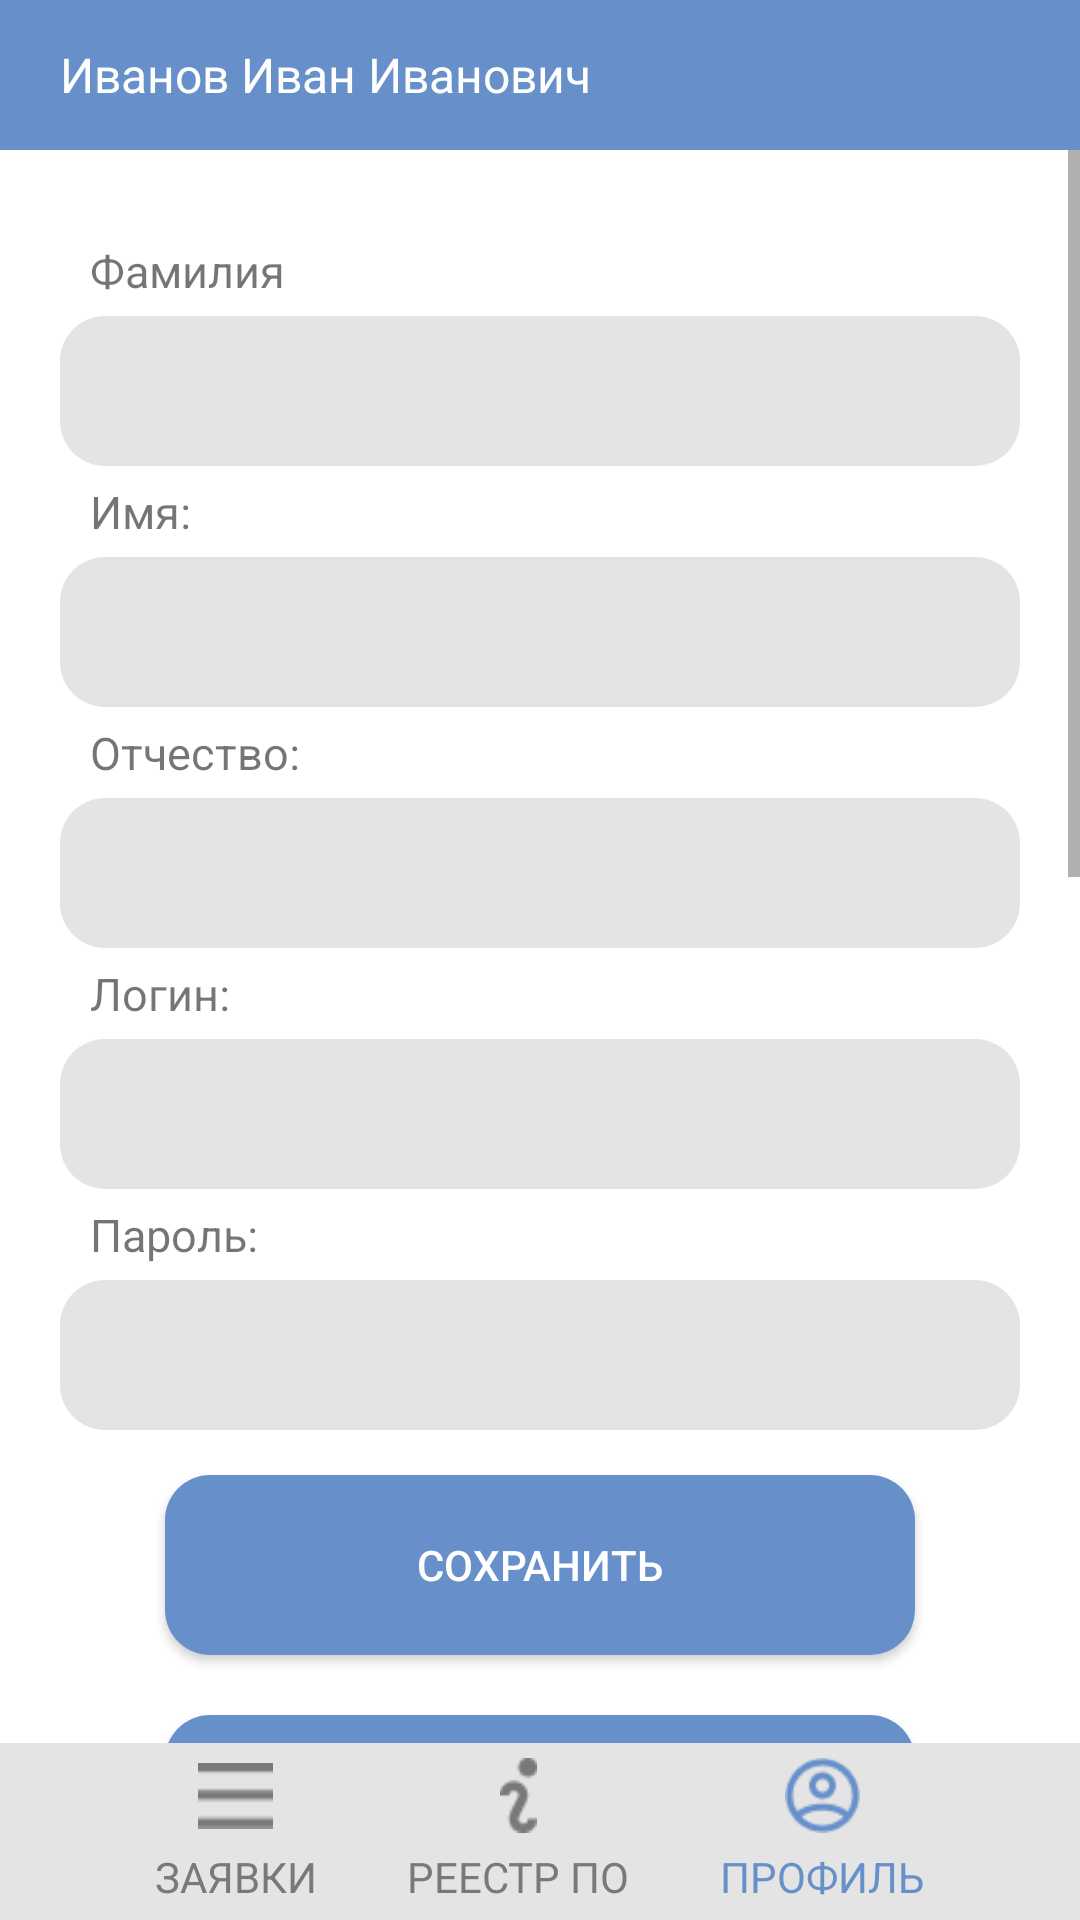

Icon click points for this 1080*1920 phone screenshot, format [x,y]:
info: [518,1795]
menu: [235,1796]
